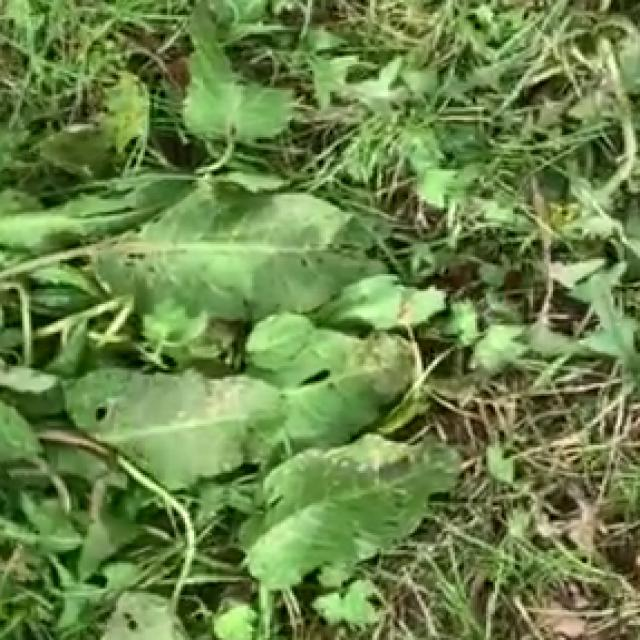organic waste: (0, 51, 497, 597)
